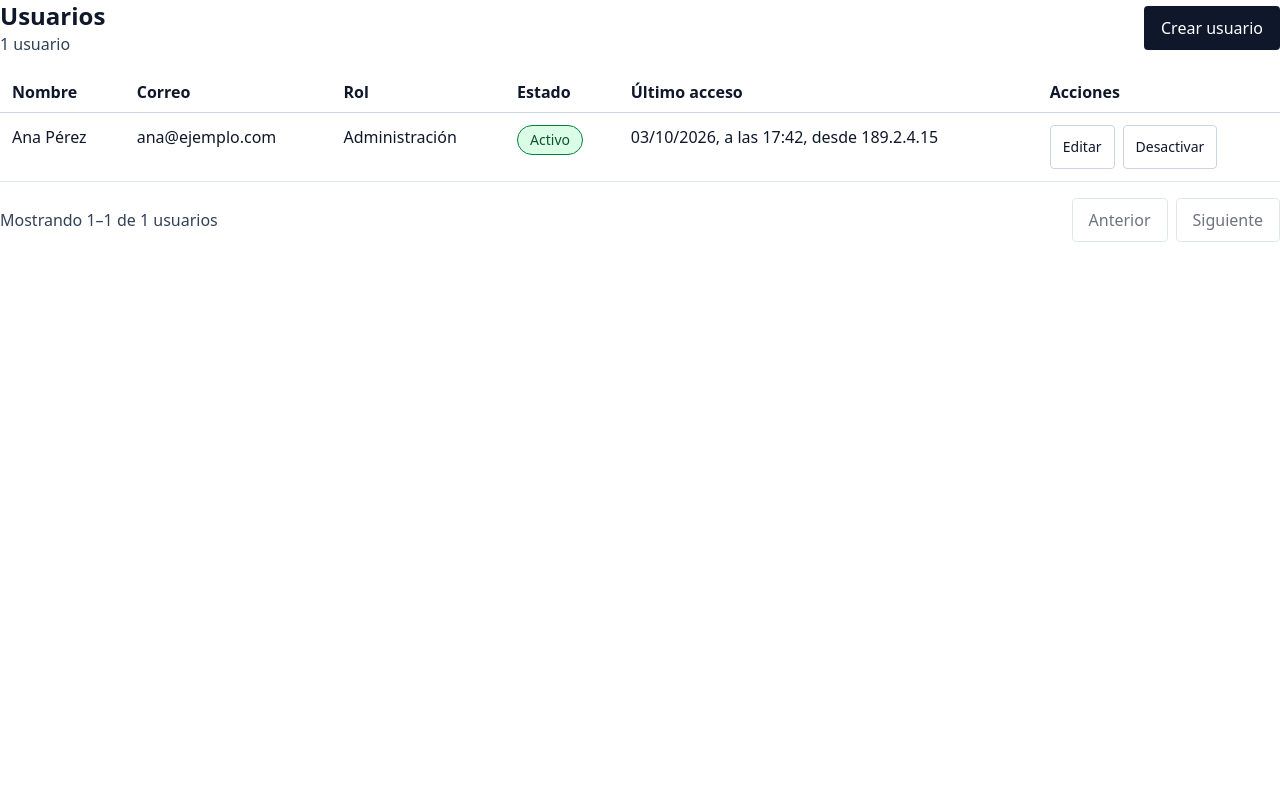
Scenario: UserForm · editar › al guardar no reenvía ningún campo de contraseña (FR-003/FR-026)
Click the button "Editar".
click(1082, 147)  # box [1050,125,1114,169]
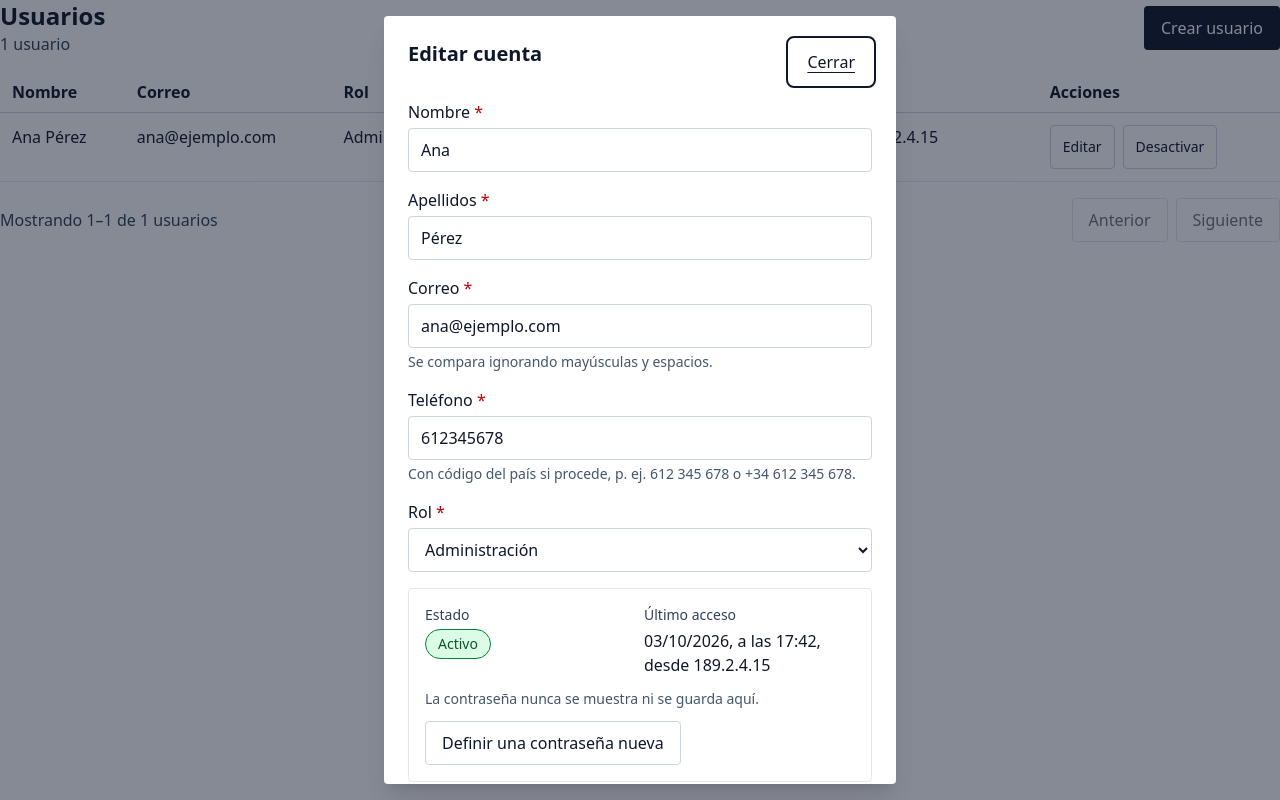
Replace the text in the field labelled "Nombre *" with "Ana María" at coordinates (640, 150), box [408,128,872,172]
(page scrolled)
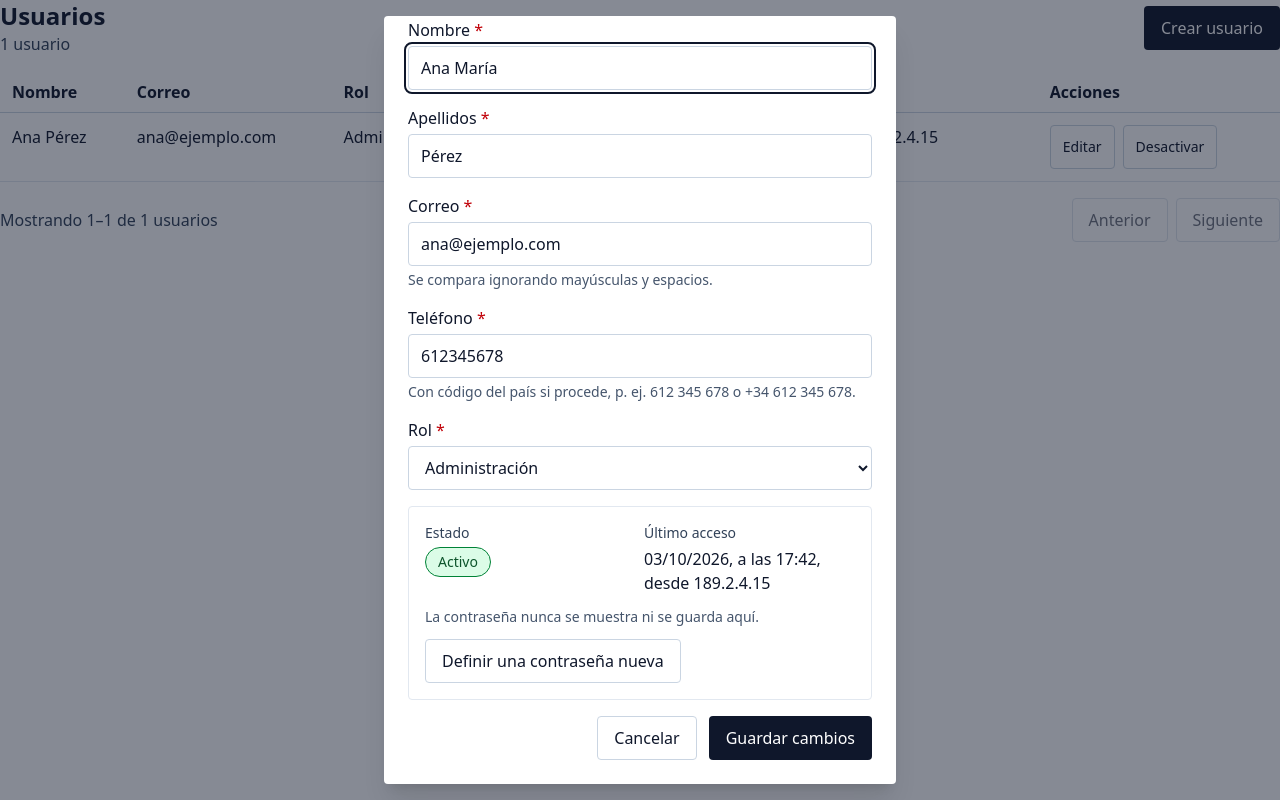
Click the button "Guardar cambios".
click(790, 738)  # box [709,716,872,760]
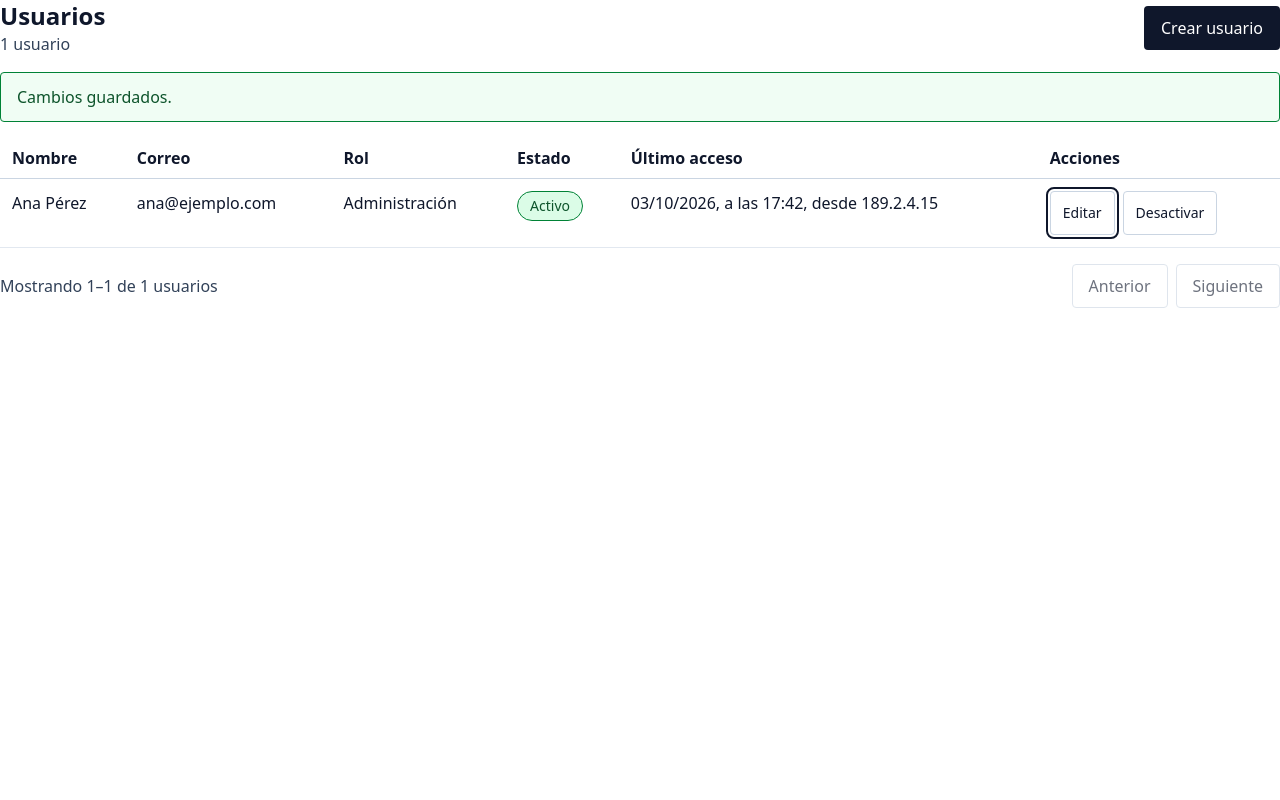
Now the text "Cambios guardados." is shown, box [0,72,1279,122]
